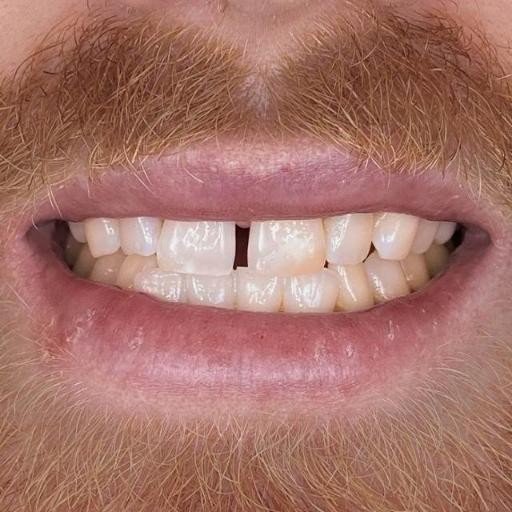spaced: (230, 222, 254, 270)
